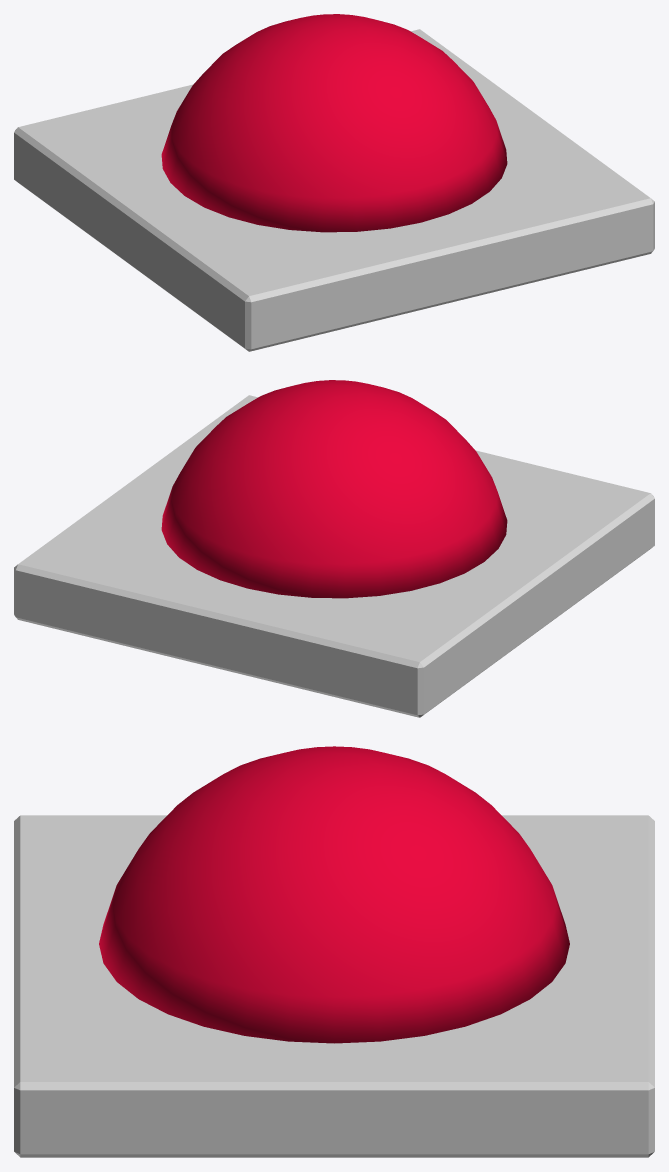
Rendered from button.fbx.
3 views of the same model, one above another, from view 1: azimuth 30°, elevation 25°; view 2: azimuth 150°, elevation 25°; view 3: azimuth 270°, elevation 25° (orthographic). The views are drawn at different scales.
Parts seen in each view (by area): view 1: Sphere; view 2: Sphere; view 3: Sphere.
Part boxes in pixels (x1,y1,x2,y2): Sphere: (14, 14, 654, 351); Sphere: (14, 380, 654, 717); Sphere: (14, 746, 654, 1157).
Bounding box in the file's own units: 113 × 49.28 × 112.
